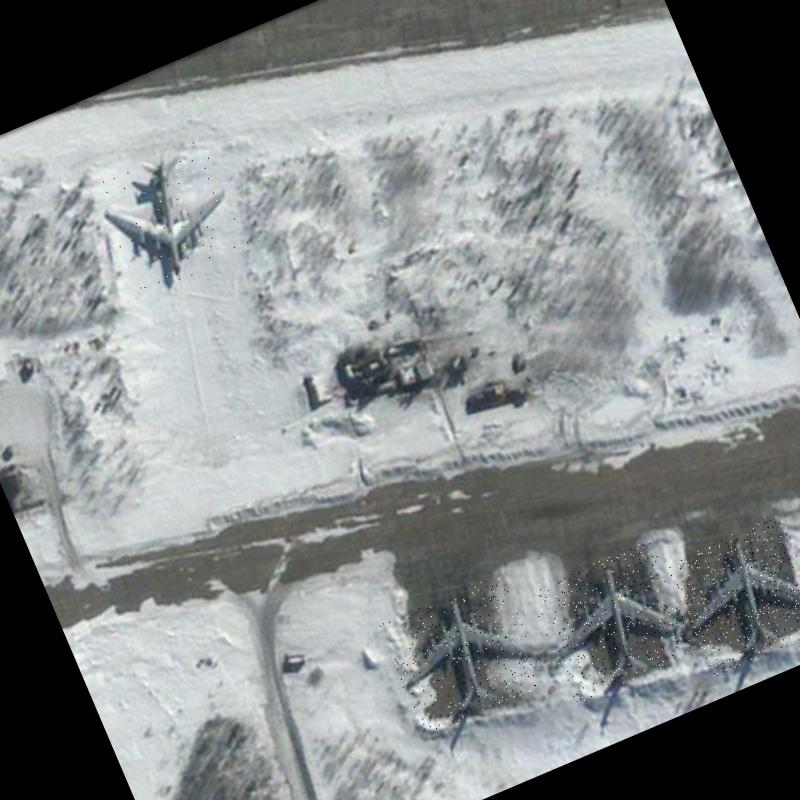A17: (528, 540, 698, 704), (378, 573, 548, 736), (92, 137, 252, 298), (665, 513, 800, 676)
